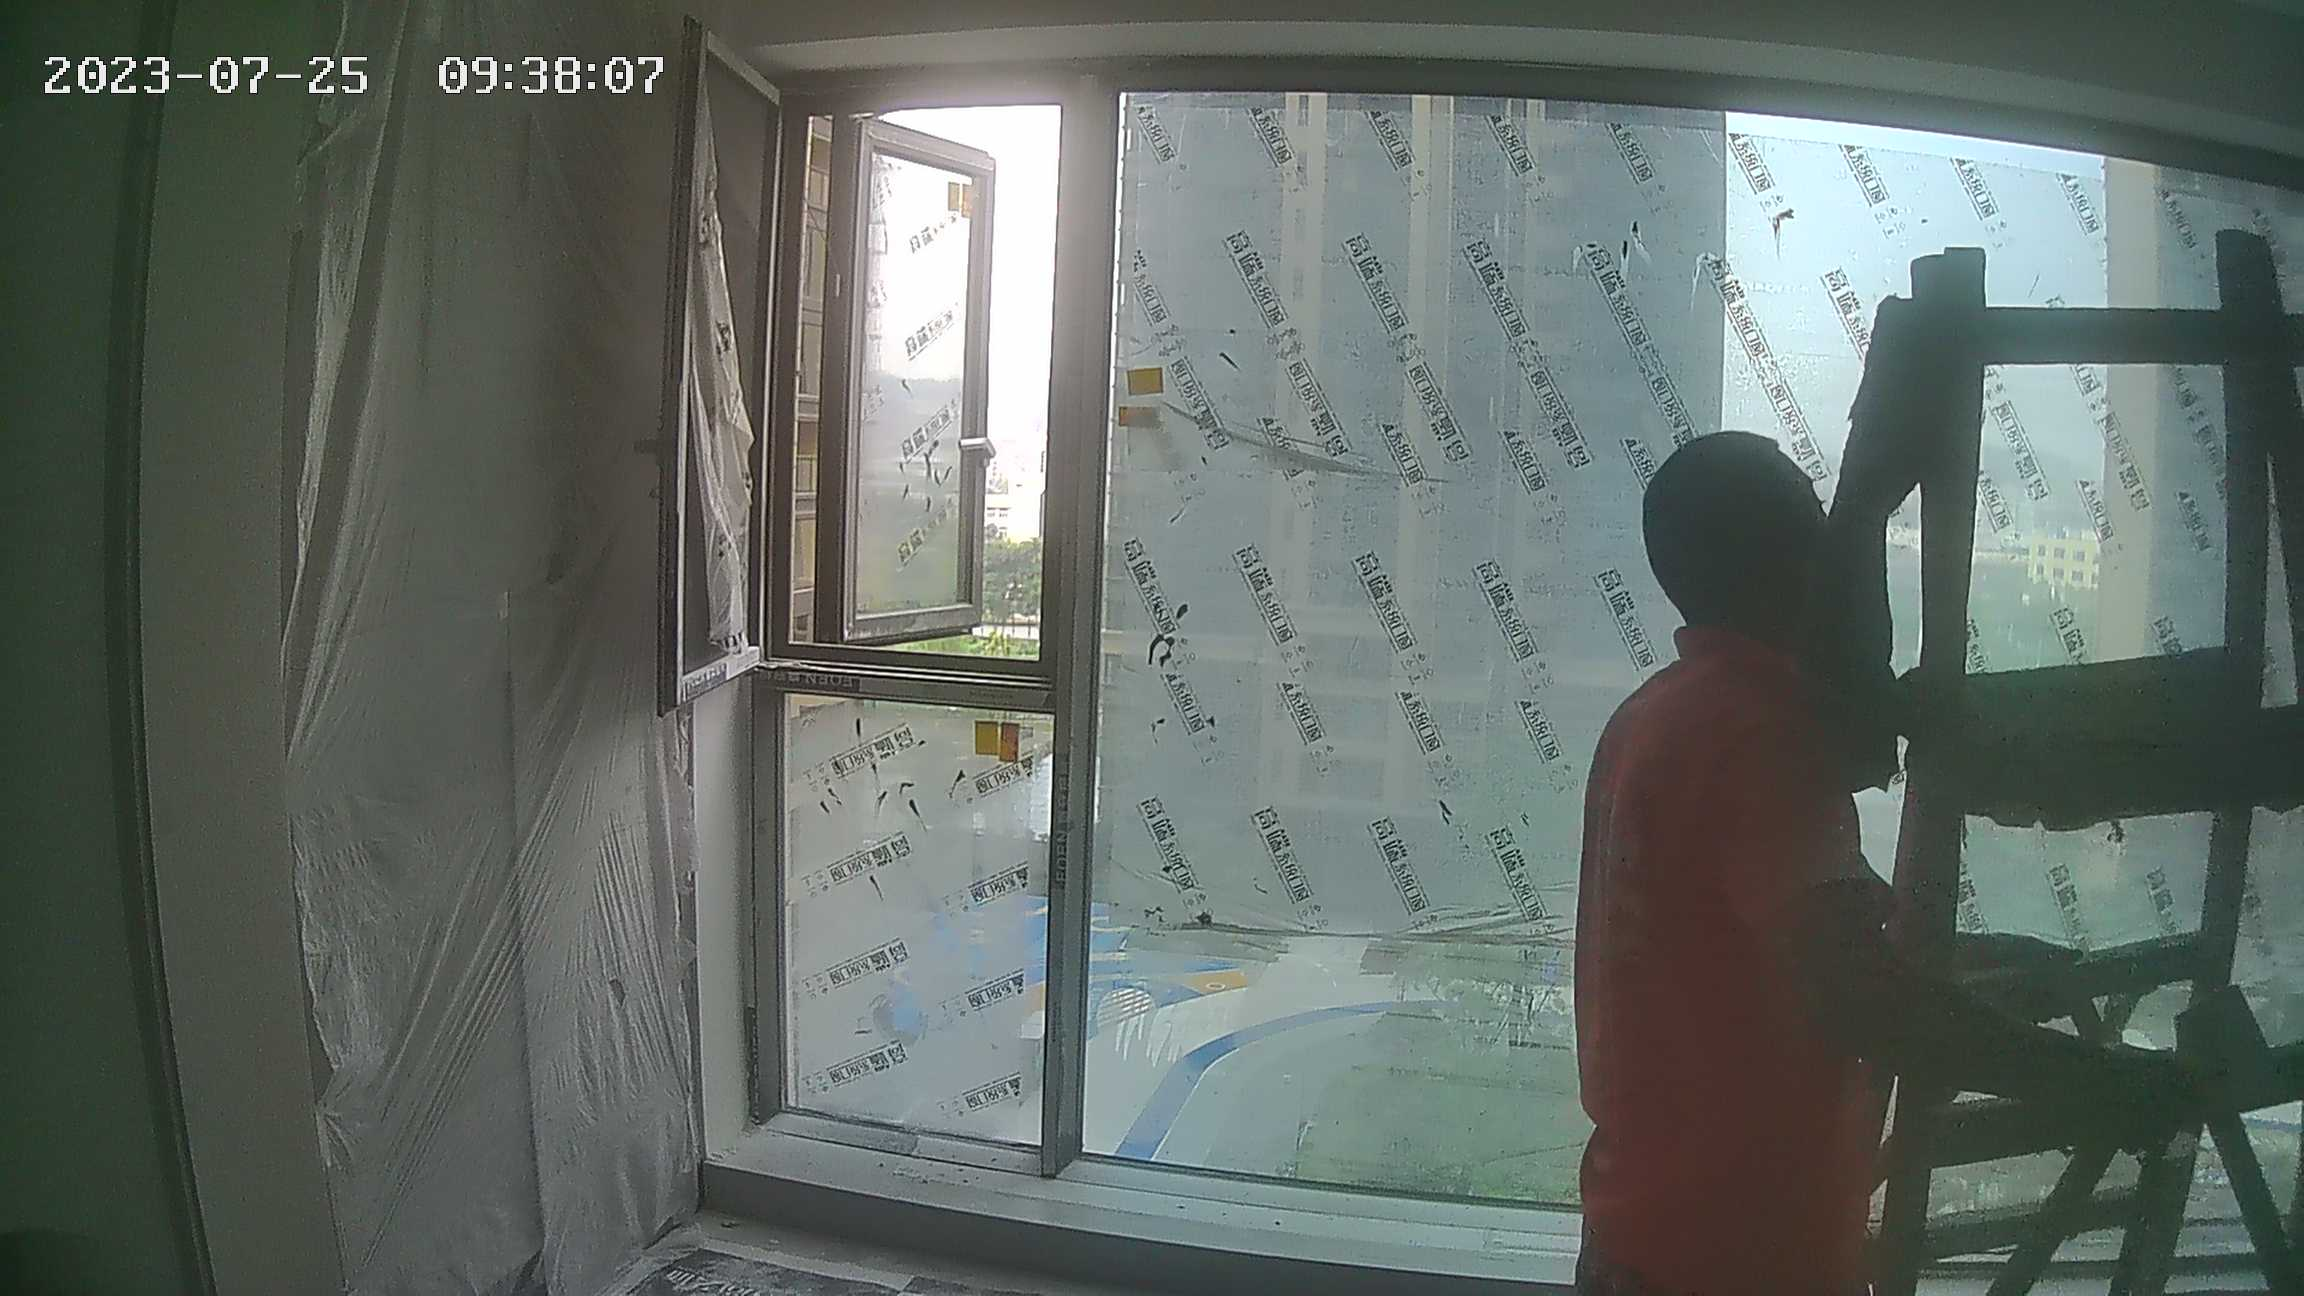people: (1574, 433, 1928, 1296)
window: (767, 94, 2304, 1233)
